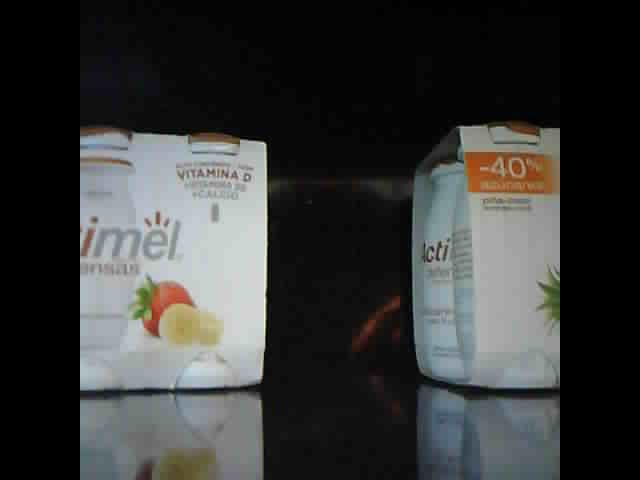actimel: (80, 124, 269, 392), (411, 119, 561, 390)
